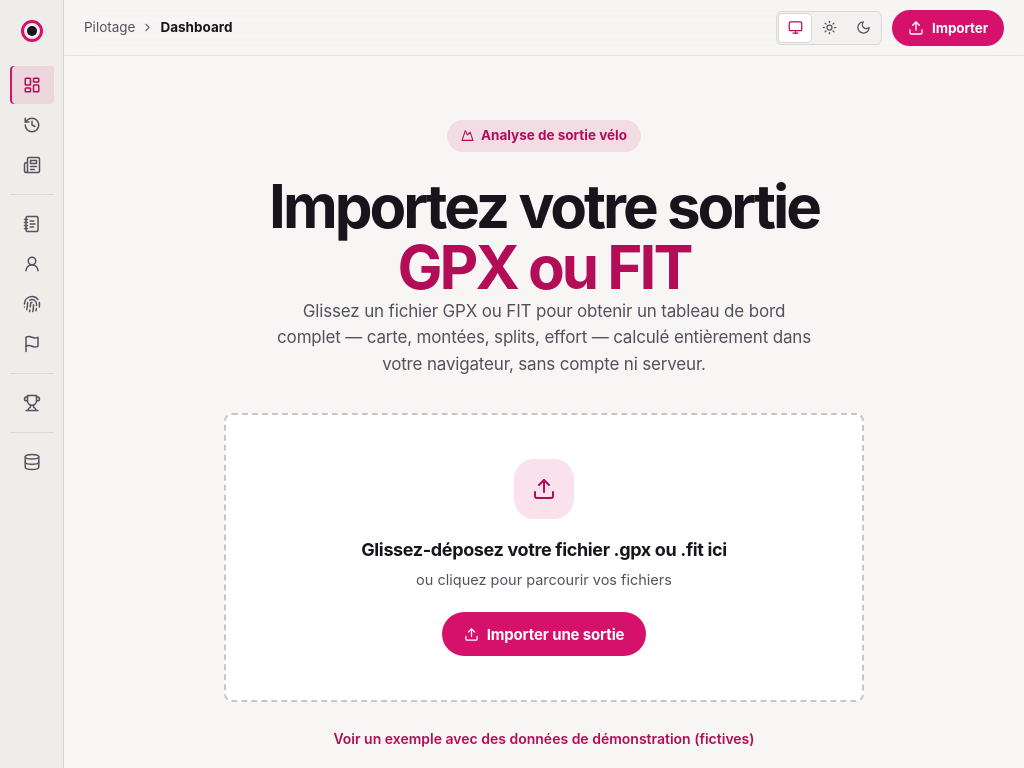
Test: Navigation principale — 6 destinations toujours accessibles › navigue directement vers Profil depuis la navigation principale
The width and height of the screenshot is (1024, 768).
Expected: the text "Glissez-déposez votre fichier .gpx ou .fit ici" is shown, [361,539,727,560]
What coordinates should you click on to do the following:
click the button "Profil"
I would click on:
 (32, 264)
Its box is [10,245,54,283].
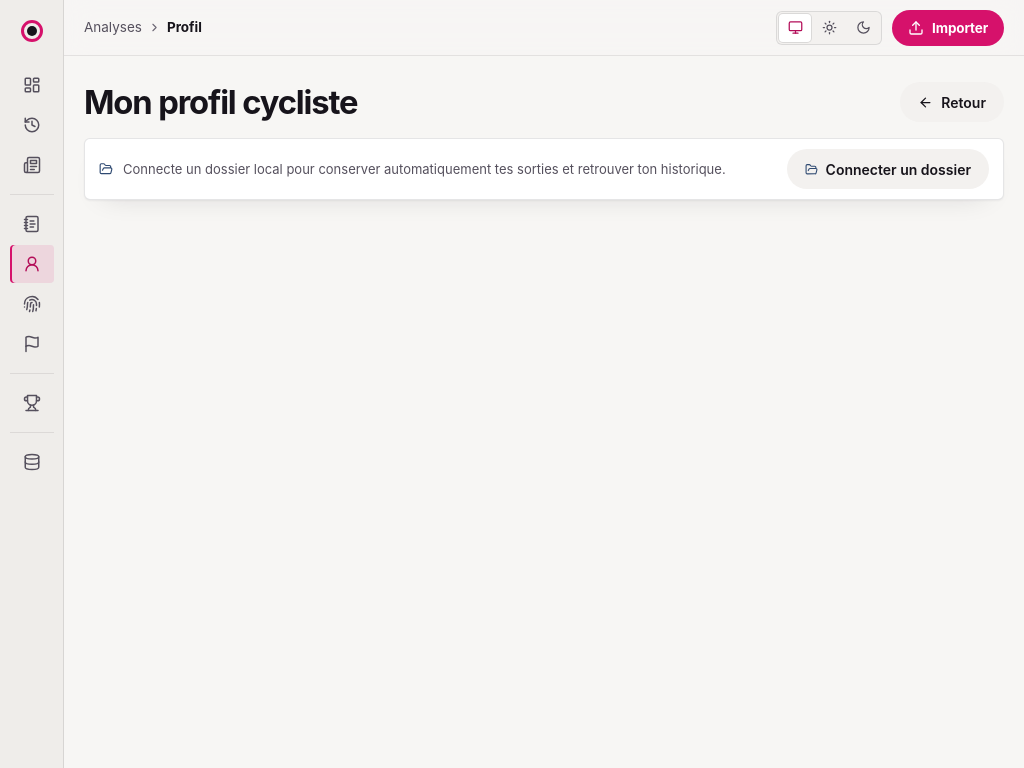
Result: the heading "Mon profil cycliste" is shown at [84,82,357,122]
